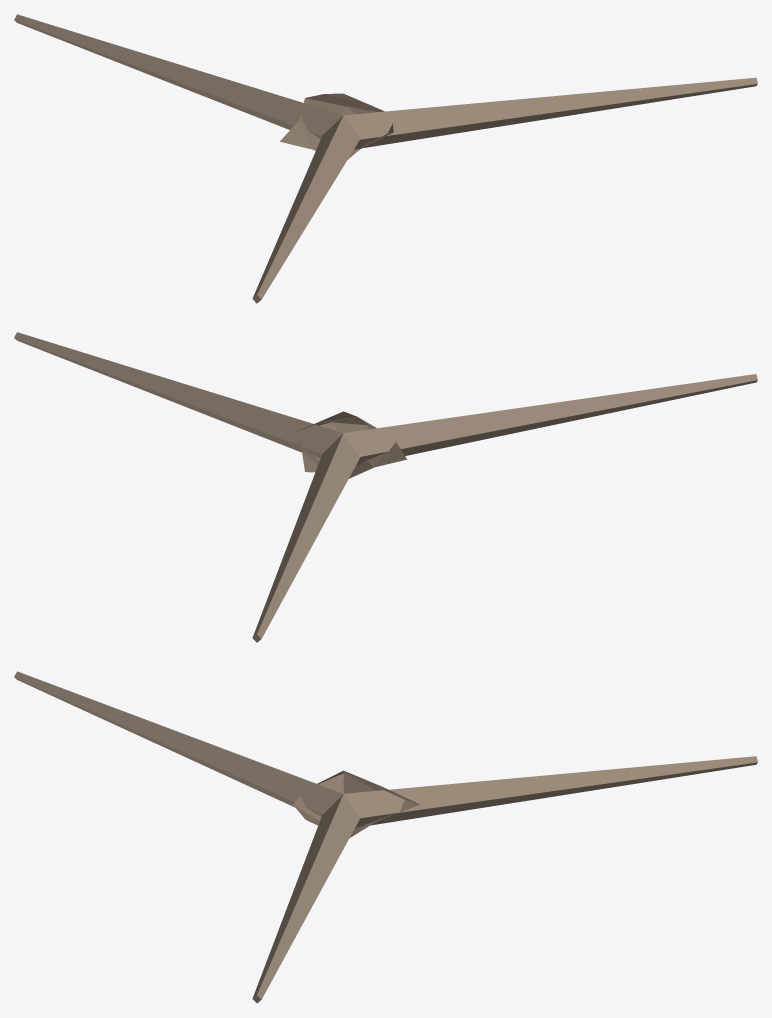
3 renders of one model, top to bottom at view 1: azimuth 30°, elevation 25°; view 2: azimuth 150°, elevation 25°; view 3: azimuth 270°, elevation 25°, orthographic.
Visible parts, largest first — view 1: lod0; view 2: lod0; view 3: lod0.
Part boxes in pixels (x1,y1,x2,y2): lod0: (14, 14, 757, 303); lod0: (14, 332, 757, 642); lod0: (14, 671, 757, 1003).
Size of what is drawn, in the model's own units: 1.82 by 0.1949 by 1.88.
